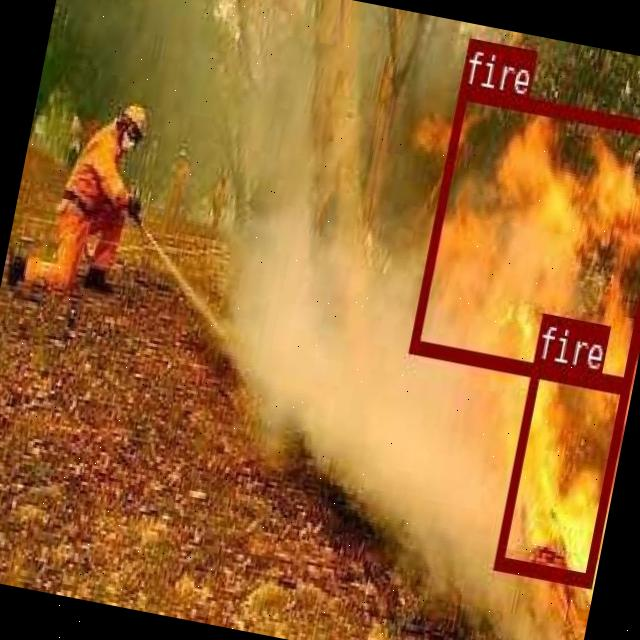fire: (408, 83, 640, 392), (492, 358, 630, 584)
